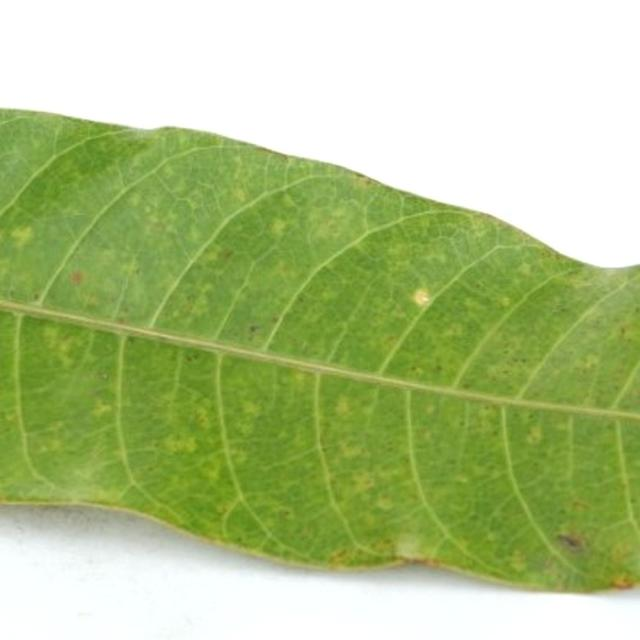Mango: (0, 109, 639, 590)
Powdery_Mildew: (395, 531, 425, 556), (410, 287, 436, 313), (611, 541, 636, 567), (192, 405, 214, 429), (163, 436, 191, 454), (55, 334, 76, 358), (11, 224, 34, 243), (558, 533, 584, 549), (339, 440, 362, 458), (270, 218, 290, 237), (333, 396, 352, 416), (239, 399, 259, 418), (93, 400, 113, 417), (375, 538, 396, 554), (581, 353, 601, 369), (609, 575, 631, 589), (527, 424, 543, 443), (330, 549, 351, 563), (375, 495, 394, 510), (510, 549, 526, 566), (281, 193, 297, 209), (84, 292, 101, 307), (355, 173, 372, 187), (233, 187, 248, 202), (70, 270, 84, 286), (247, 324, 261, 338), (571, 500, 588, 511), (519, 262, 533, 275), (620, 326, 633, 340), (409, 365, 424, 376), (220, 248, 233, 260), (184, 352, 198, 363), (499, 296, 512, 307)
